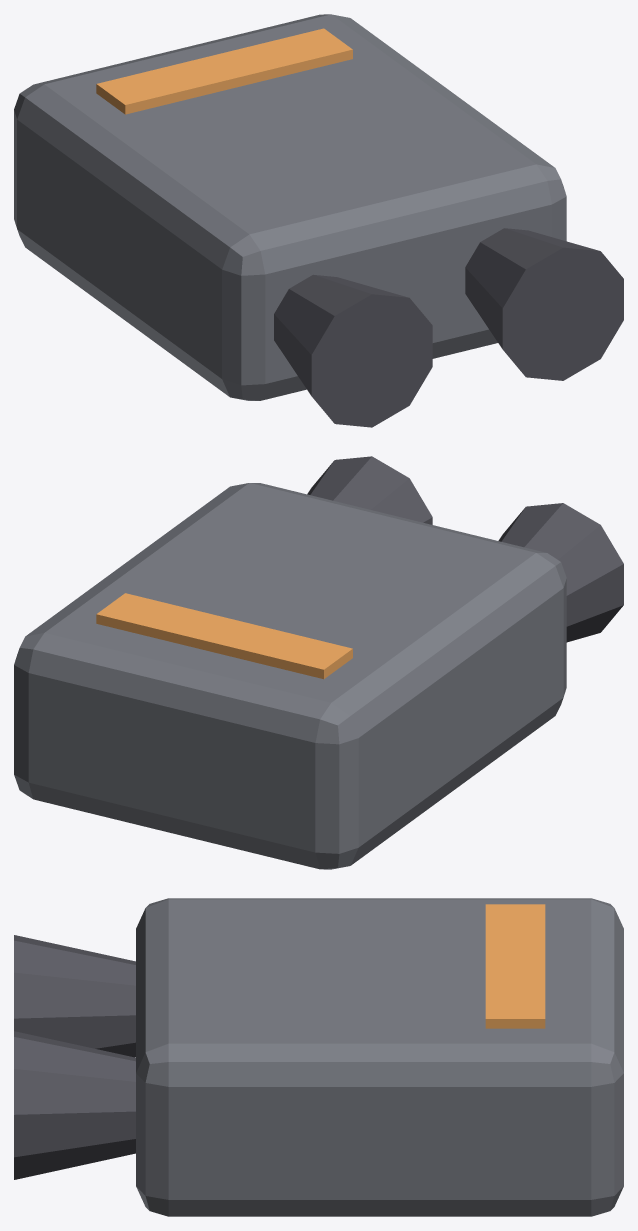
The model's file is jetpack_held.gltf.
The picture shows the model from 3 angles, top to bottom: view 1: azimuth 30°, elevation 25°; view 2: azimuth 150°, elevation 25°; view 3: azimuth 270°, elevation 25°; orthographic projection. The views are drawn at different scales.
Visible parts, largest first — view 1: jetpack_jetpack_held; view 2: jetpack_jetpack_held; view 3: jetpack_jetpack_held.
Boxes of the visible parts, x1,y1,x2,y2 form: jetpack_jetpack_held: (14,14,623,427); jetpack_jetpack_held: (14,456,623,869); jetpack_jetpack_held: (14,898,623,1216).
Bounding box in the file's own units: 0.15 × 0.074 × 0.225.
